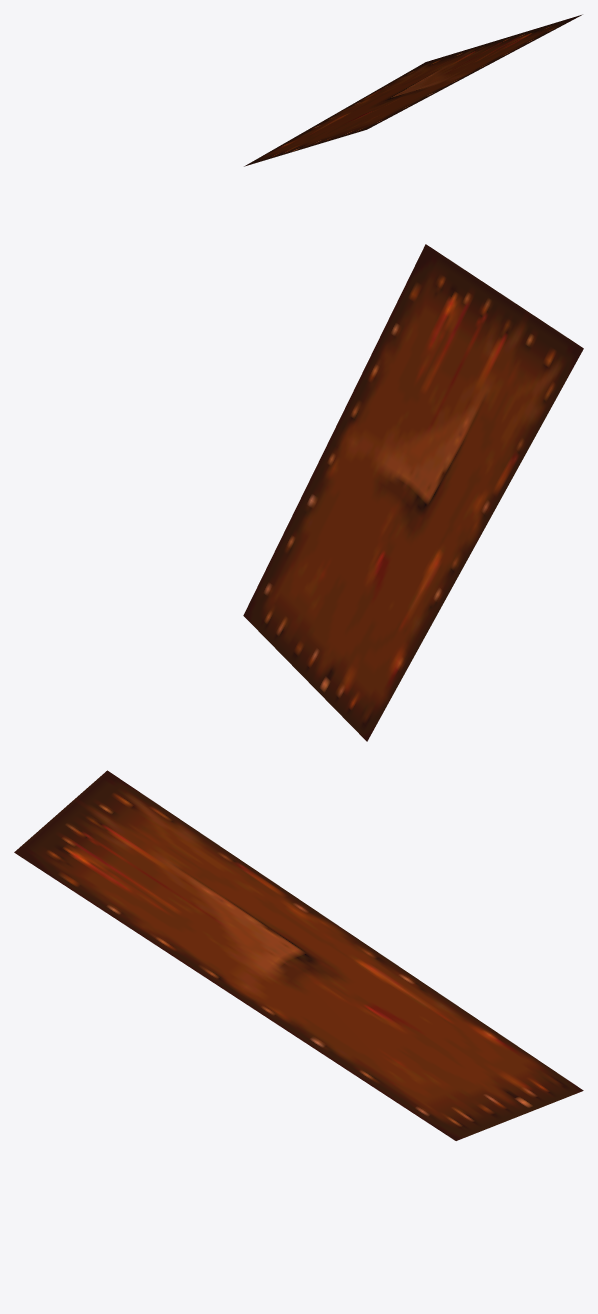
The model's file is Schiff_Heck5_1263.glb.
3 views of the same model, one above another, from view 1: azimuth 30°, elevation 25°; view 2: azimuth 150°, elevation 25°; view 3: azimuth 270°, elevation 25° (orthographic). The views are drawn at different scales.
Parts seen in each view (by area): view 1: pPlaneShape48; view 2: pPlaneShape27; view 3: pPlaneShape27.
Boxes of the visible parts, bbox=[...] form: pPlaneShape48: bbox=[244, 14, 582, 166]; pPlaneShape27: bbox=[243, 244, 583, 741]; pPlaneShape27: bbox=[14, 770, 583, 1140].
Size of the model in its own units: 0.9806 by 0.6732 by 1.01.
Materials: 2 (2 with a texture image).
